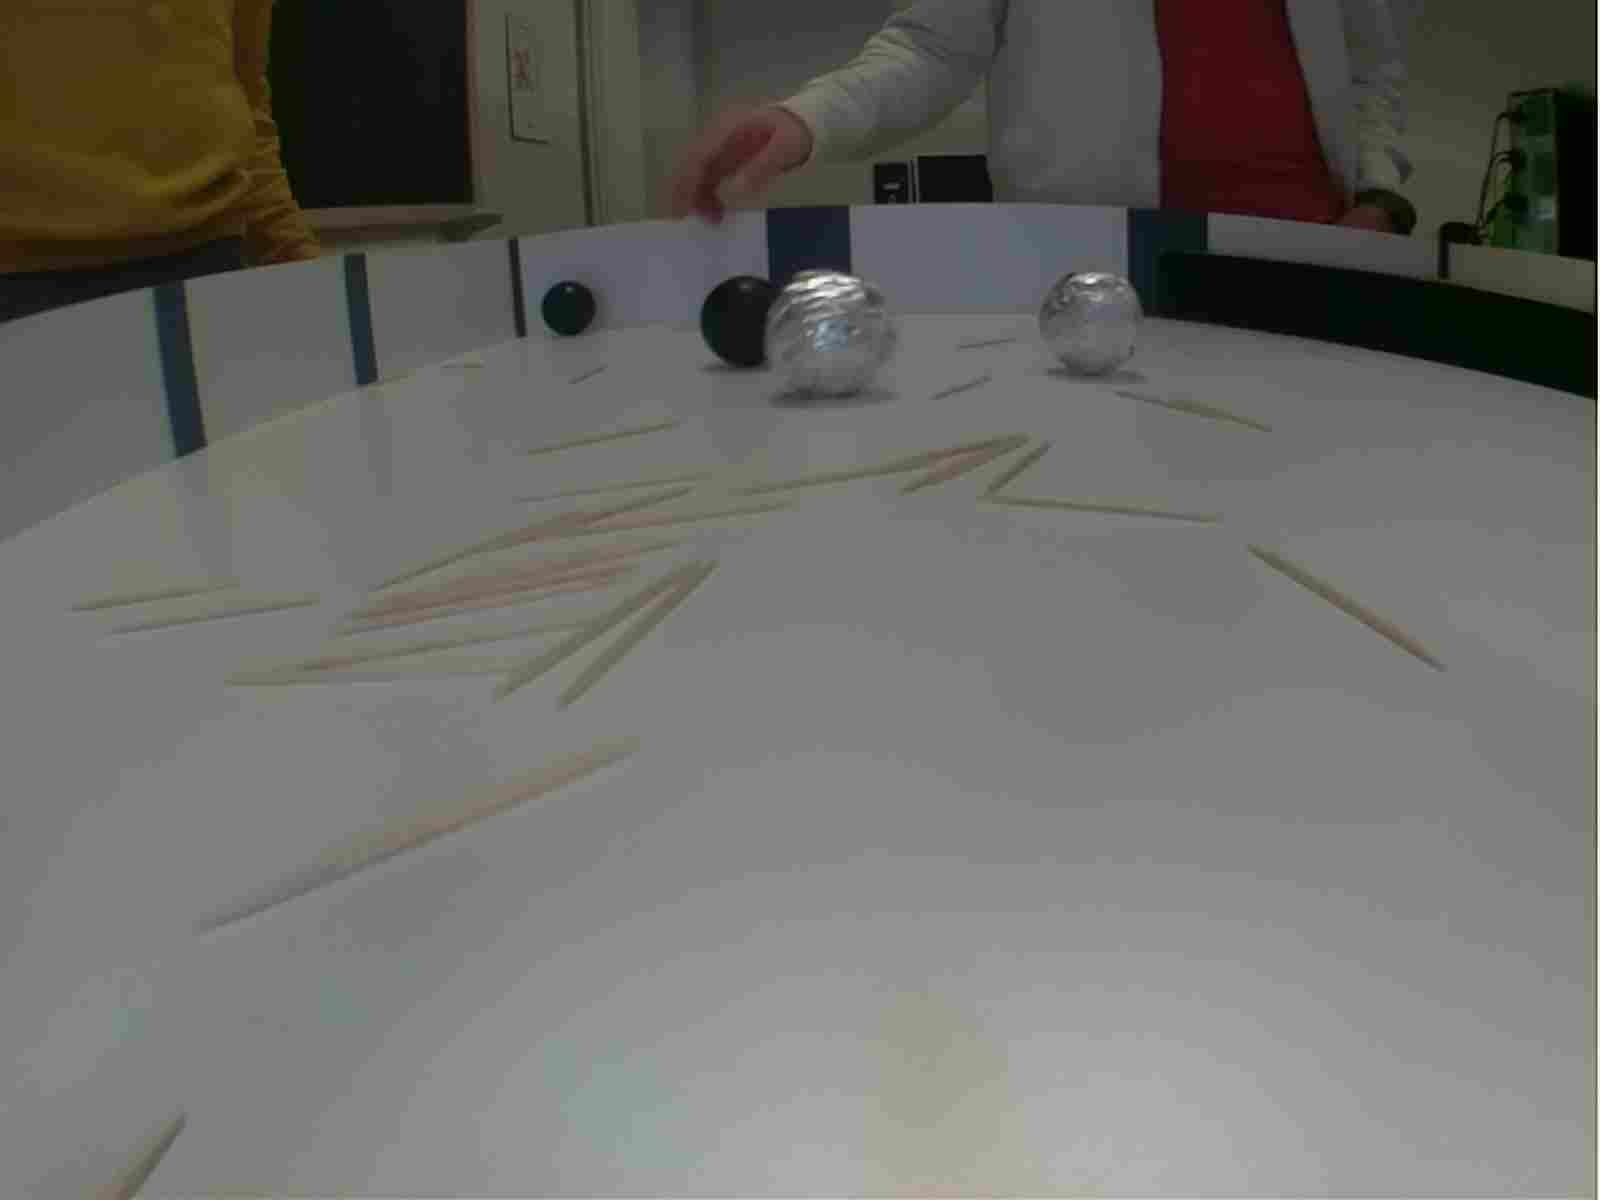bianca: (769, 267, 900, 398), (1041, 268, 1148, 376)
nera: (695, 271, 792, 368), (540, 277, 600, 337)
